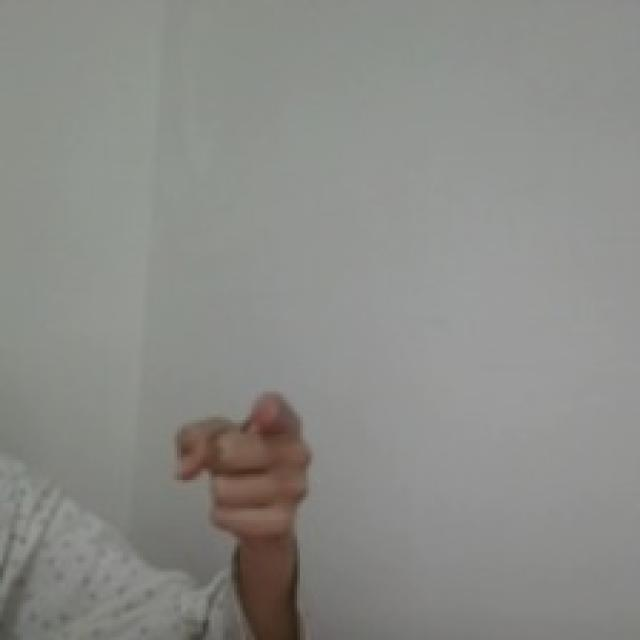you: (167, 383, 321, 551)
